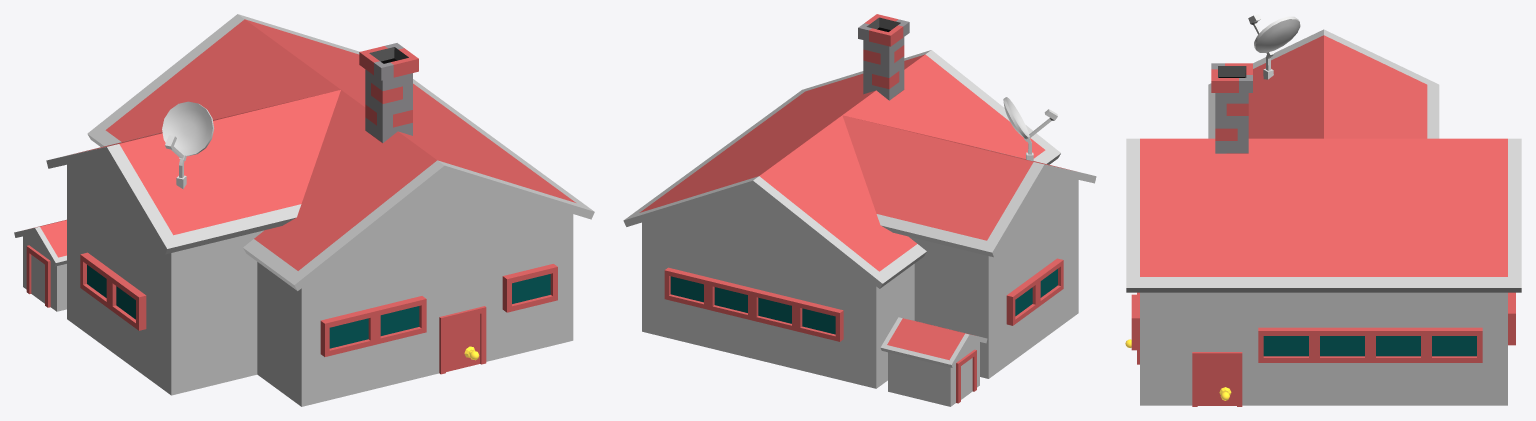
The model's file is building_house_A.fbx.
3 views of the same model, side by side, from view 1: azimuth 30°, elevation 25°; view 2: azimuth 150°, elevation 25°; view 3: azimuth 270°, elevation 25° (orthographic). The views are drawn at different scales.
Visible parts, largest first — view 1: building_house_A, addon, windows, chimney, shed, door1, pCylinder7; view 2: building_house_A, addon, windows, shed, chimney, pCylinder7; view 3: building_house_A, addon, windows, chimney, door2, pCylinder7, dish.
Boxes of the visible parts, x1,y1,x2,y2 form: building_house_A: [87, 14, 594, 406]; addon: [46, 90, 340, 395]; windows: [80, 252, 557, 356]; chimney: [359, 43, 418, 143]; shed: [14, 219, 66, 311]; door1: [439, 306, 486, 374]; pCylinder7: [162, 101, 214, 156]; building_house_A: [623, 50, 1060, 388]; addon: [842, 115, 1096, 378]; windows: [664, 258, 1063, 341]; shed: [880, 317, 987, 406]; chimney: [858, 14, 909, 100]; pCylinder7: [1003, 97, 1029, 139]; building_house_A: [1126, 138, 1521, 405]; addon: [1208, 29, 1439, 138]; windows: [1131, 292, 1515, 362]; chimney: [1211, 63, 1252, 153]; door2: [1192, 352, 1242, 406]; pCylinder7: [1254, 16, 1300, 52]; dish: [1248, 14, 1273, 79].
Bounding box in the file's own units: 15.47 × 10.88 × 14.45.
